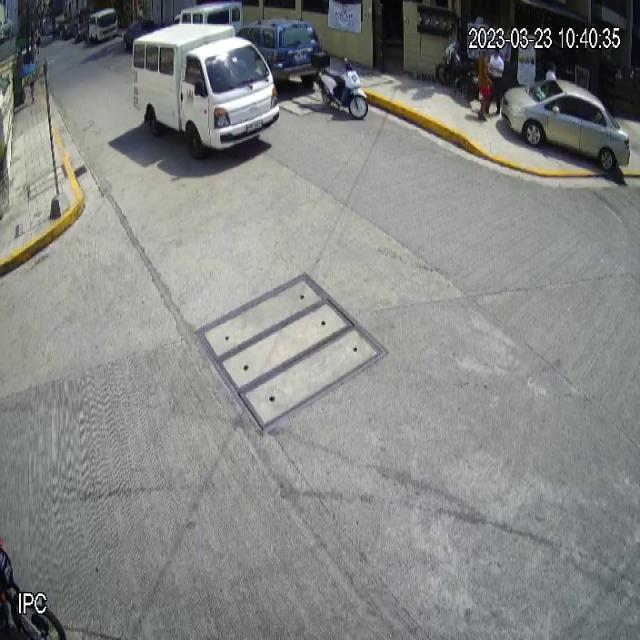Car: (500, 76, 632, 175)
Motorcycle: (311, 49, 371, 125)
Van: (131, 21, 281, 160)
